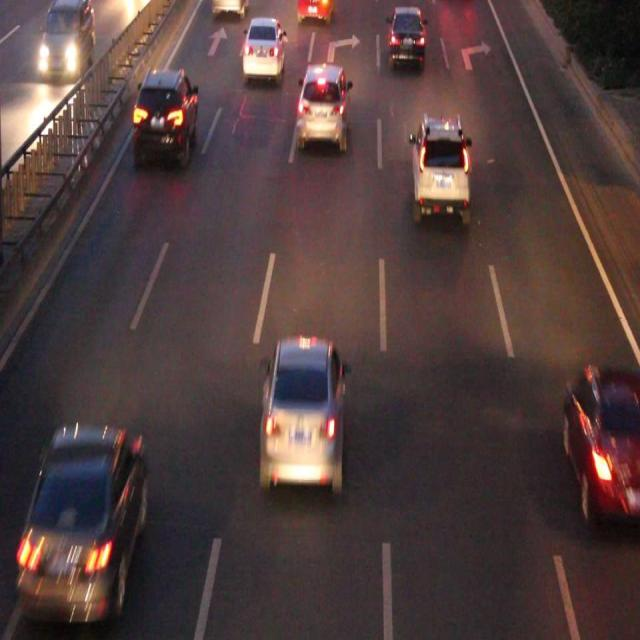car: (27, 431, 146, 599), (262, 340, 342, 488), (564, 366, 640, 518), (412, 122, 468, 215), (136, 72, 196, 157), (298, 65, 348, 145), (243, 18, 284, 77), (389, 1, 422, 63), (298, 1, 332, 18), (211, 1, 245, 13)
